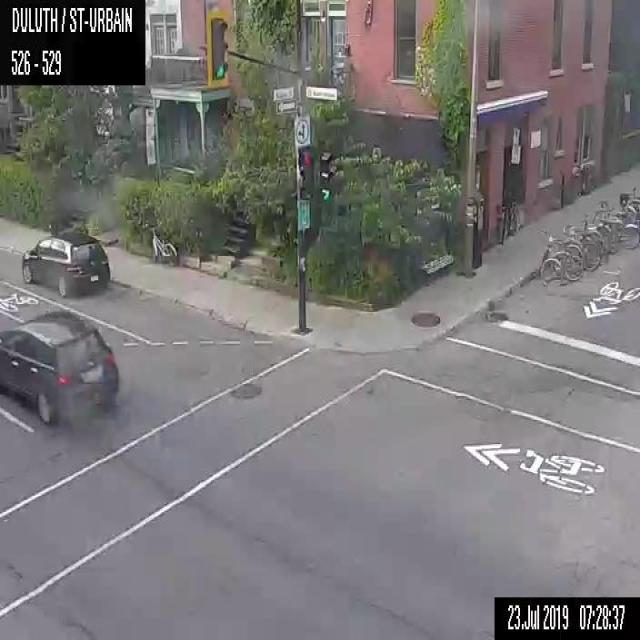vehicle: (0, 310, 119, 426), (21, 230, 109, 296)
